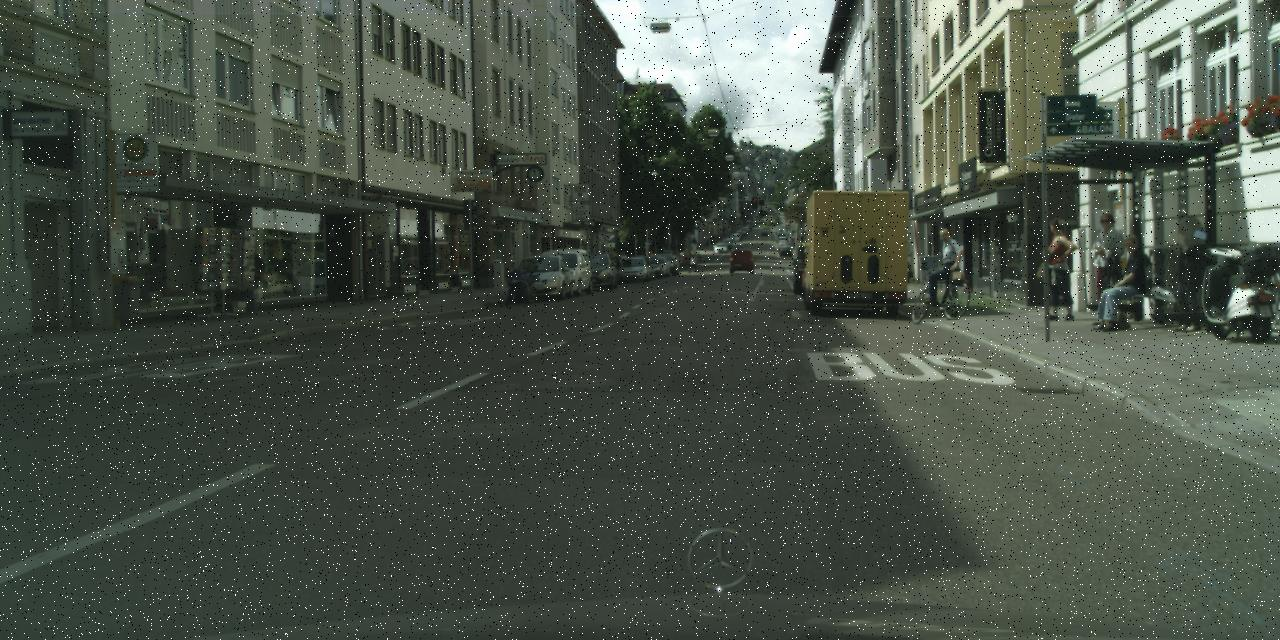ped: (1166, 214, 1212, 330), (1085, 212, 1129, 320), (1038, 218, 1078, 320), (928, 228, 962, 310), (232, 242, 261, 316), (618, 252, 626, 274), (690, 255, 696, 271)
